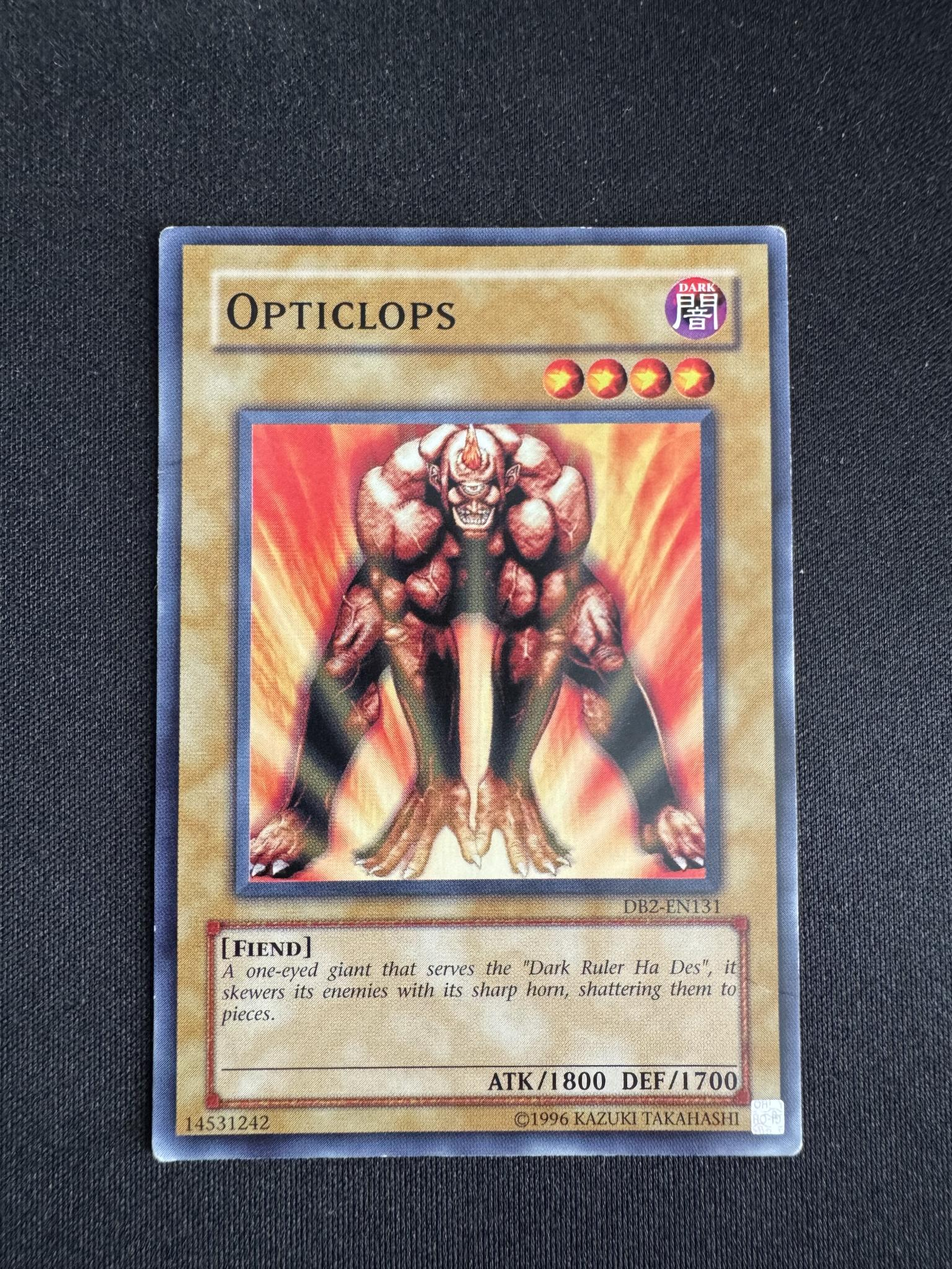card-2UtV: (152, 225, 803, 1162)
